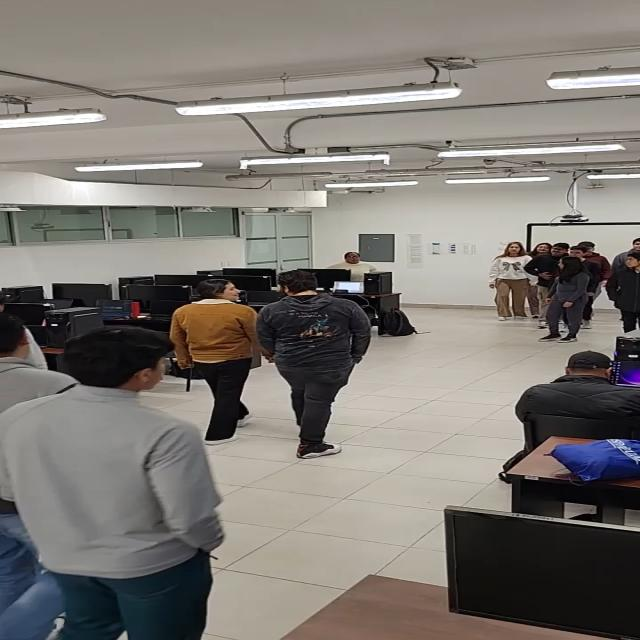Persona: (0, 328, 228, 638), (253, 268, 374, 459), (170, 276, 273, 446), (0, 307, 78, 416), (522, 243, 579, 334), (536, 255, 590, 343), (484, 241, 534, 322), (605, 250, 640, 335), (567, 244, 600, 328), (528, 242, 552, 323), (578, 241, 613, 287), (615, 239, 640, 264)
